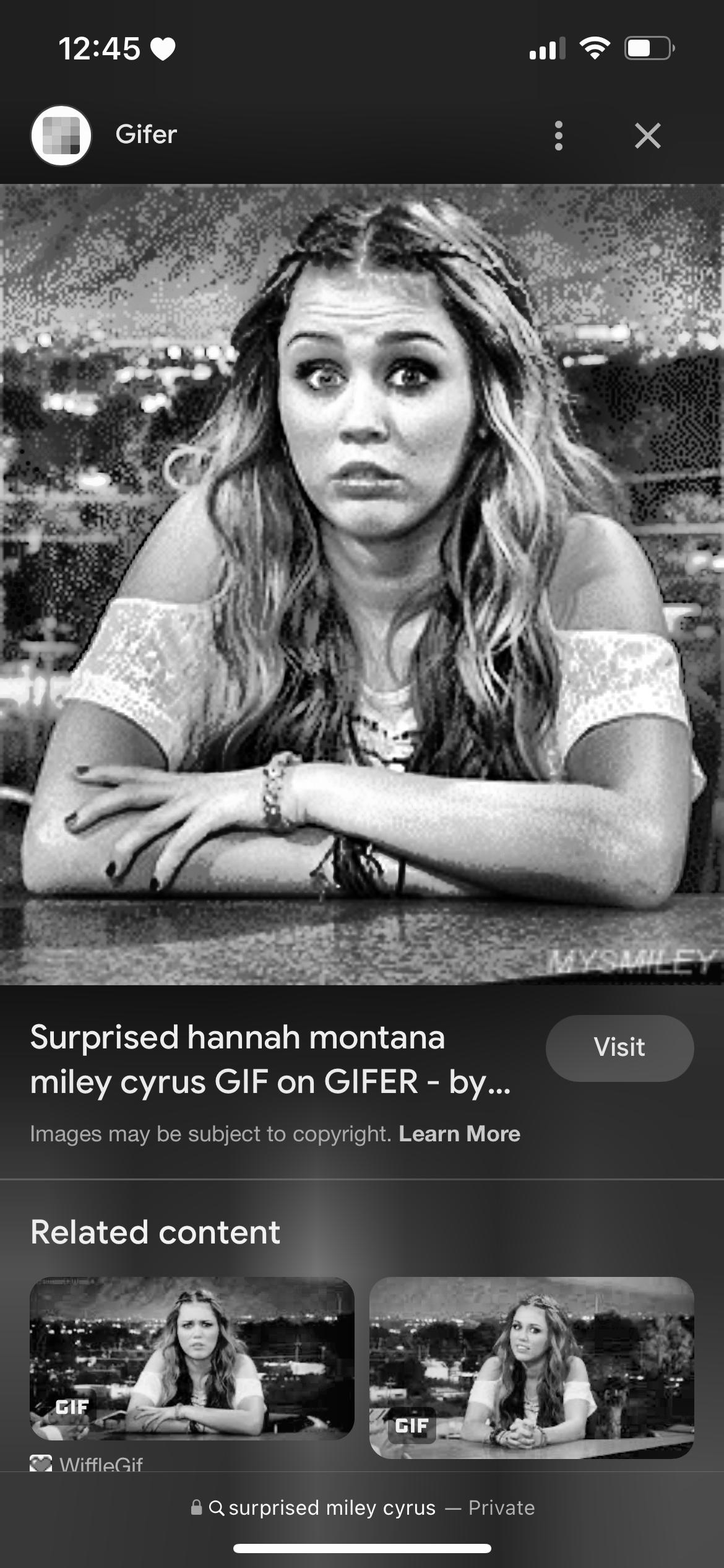surprised: (274, 273, 474, 532)
